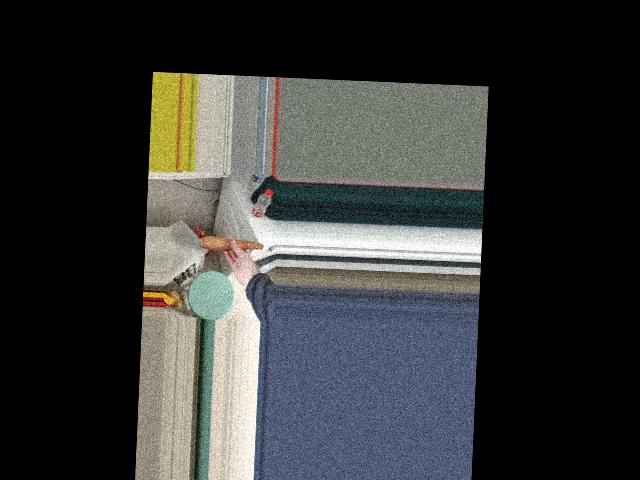sweet_potato: (200, 234, 264, 257)
